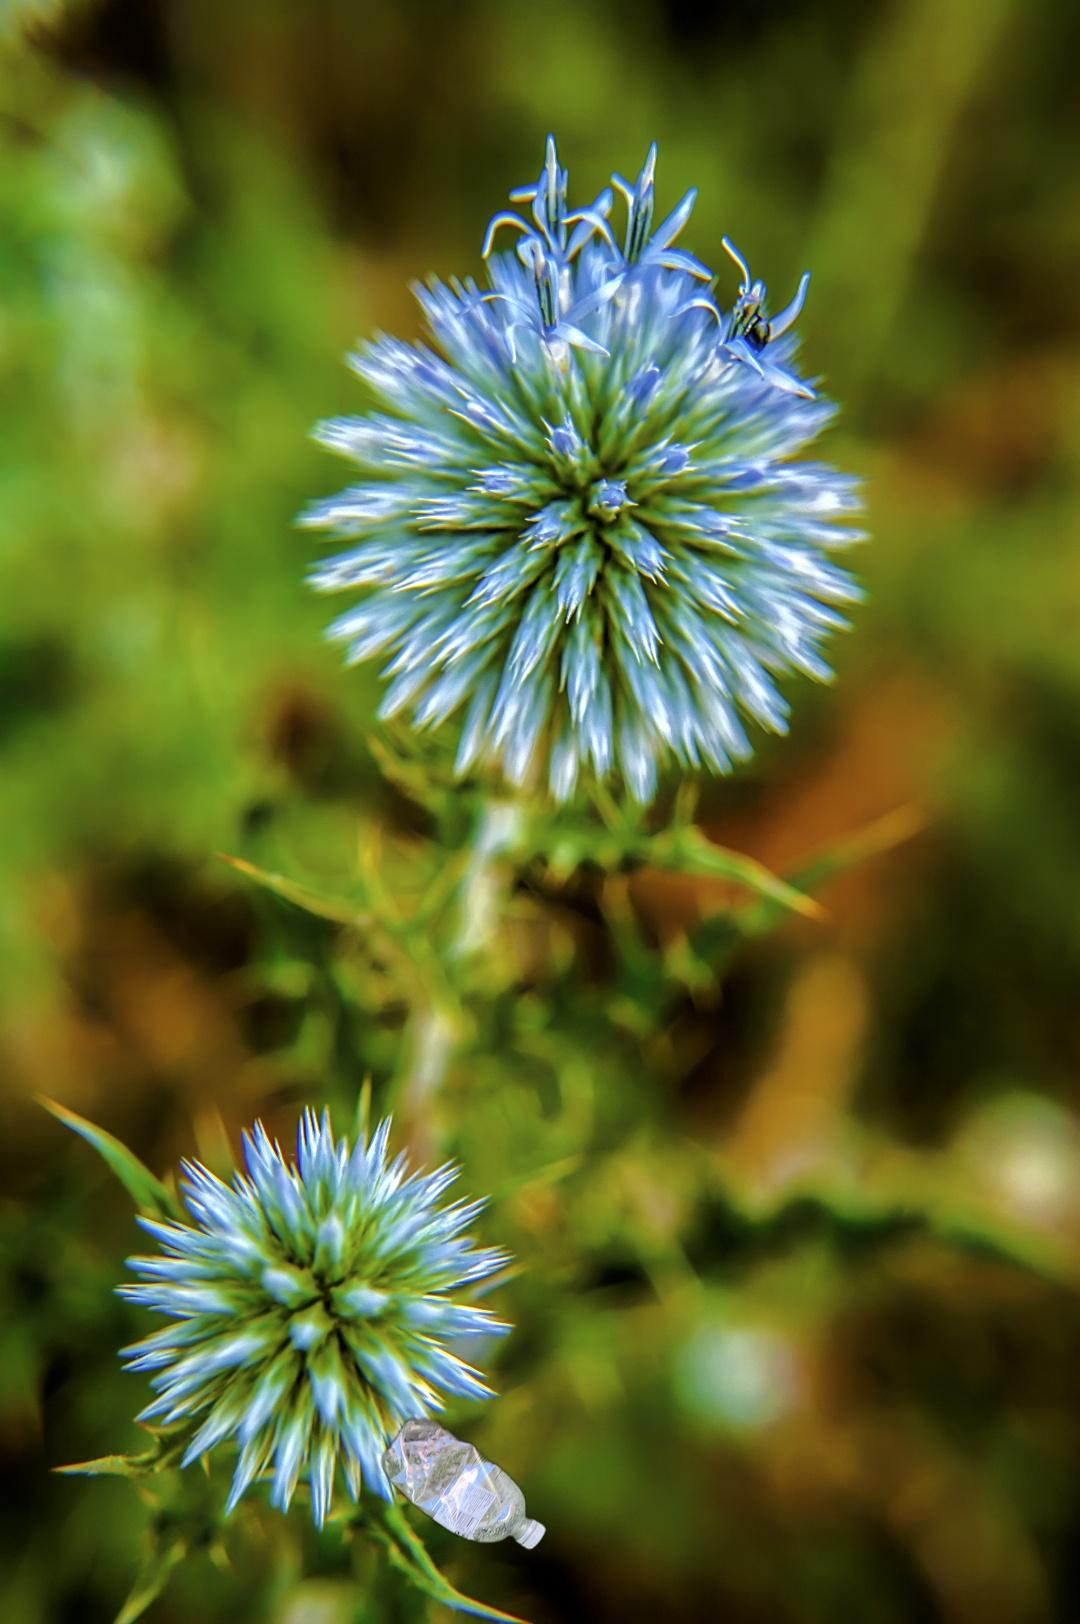plastic-bottles: (251, 1412, 550, 1624)
